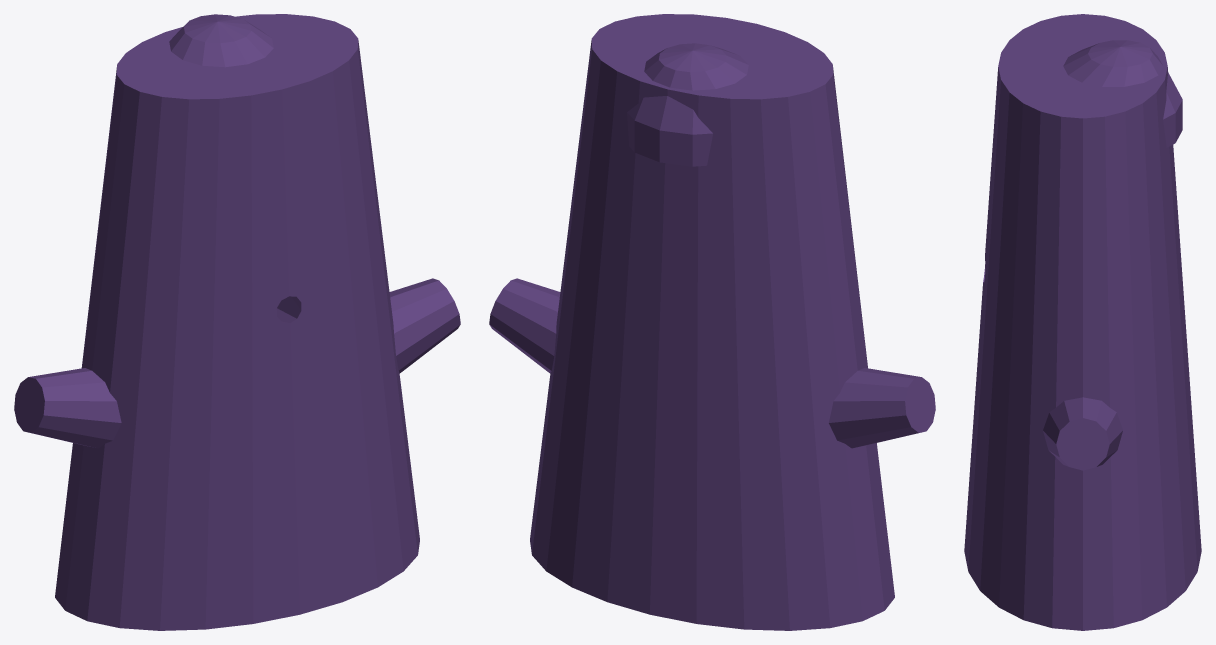
The model's file is robe.fbx.
The picture shows the model from 3 angles, left to right: view 1: azimuth 30°, elevation 25°; view 2: azimuth 150°, elevation 25°; view 3: azimuth 270°, elevation 25°; orthographic projection. The views are drawn at different scales.
Visible parts, largest first — view 1: robe; view 2: robe; view 3: robe.
Part boxes in pixels (x1=…): robe: x1=14, y1=14, x2=460, y2=630; robe: x1=489, y1=14, x2=935, y2=630; robe: x1=964, y1=14, x2=1201, y2=630.
Bounding box in the file's own units: 0.8757 × 1.04 × 0.4435.
